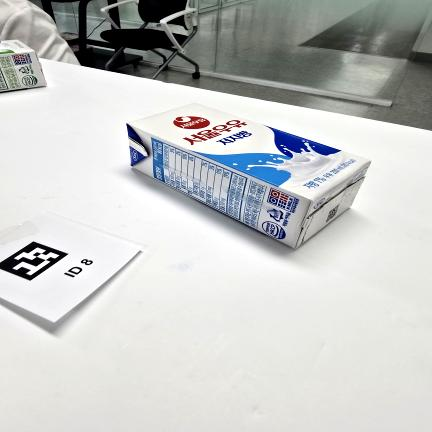milk_blue: (126, 102, 372, 249)
